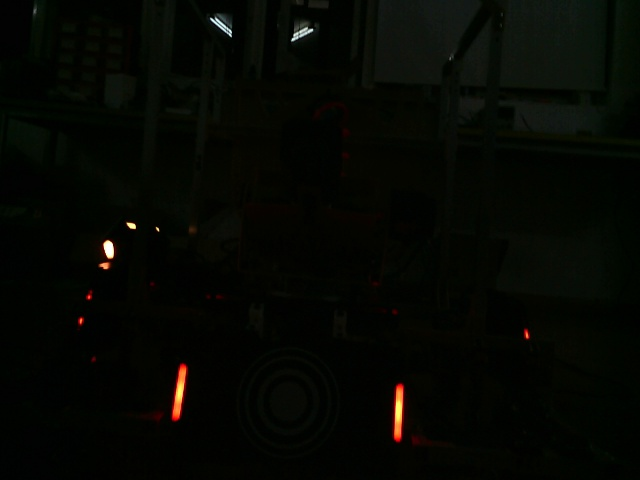lamp: (170, 363, 188, 422), (392, 382, 405, 441)
